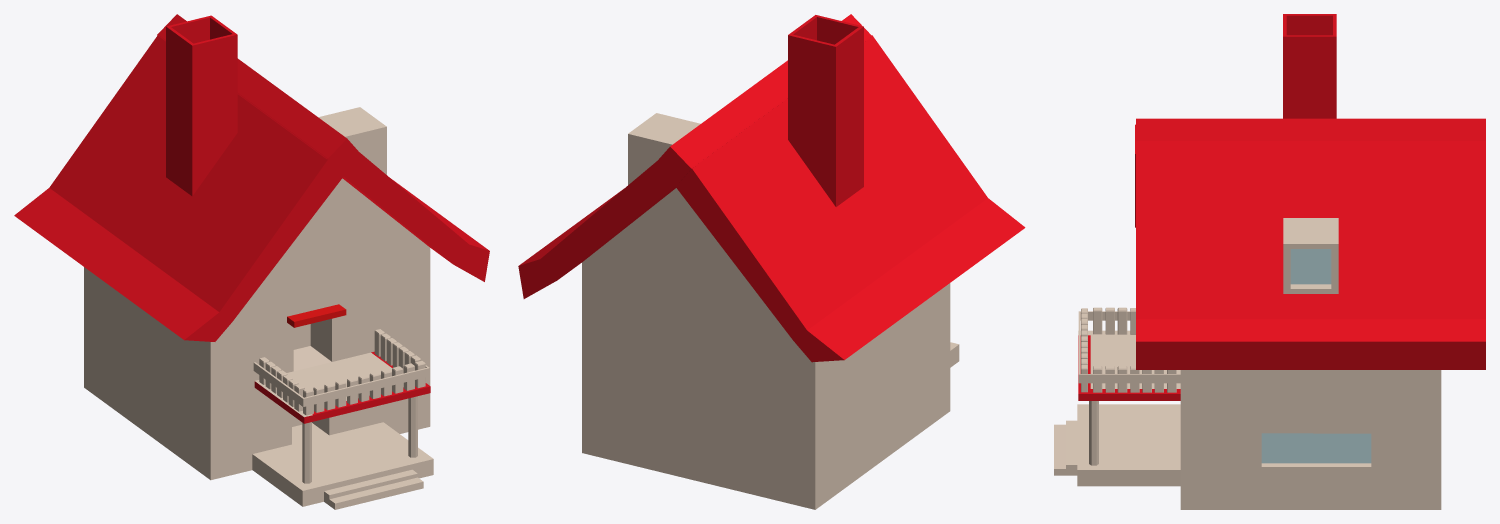
The model's file is house2.dae.
3 views of the same model, side by side, from view 1: azimuth 30°, elevation 25°; view 2: azimuth 150°, elevation 25°; view 3: azimuth 270°, elevation 25° (orthographic). The views are drawn at different scales.
Parts seen in each view (by area): view 1: Cube_001; view 2: Cube_001; view 3: Cube_001.
Part boxes in pixels (<box>): Cube_001: <box>14,14,489,509</box>; Cube_001: <box>518,14,1025,509</box>; Cube_001: <box>1054,14,1485,509</box>.
Bounding box in the file's own units: 11.28 × 13.39 × 13.74.
